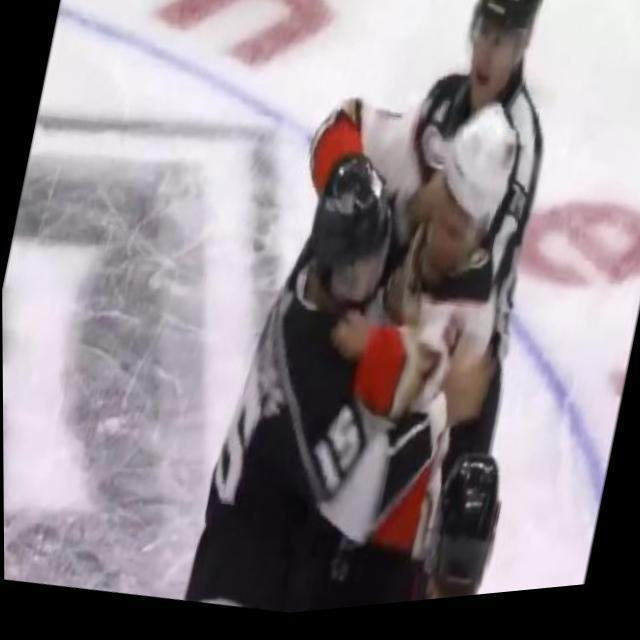fight: (190, 72, 548, 626)
